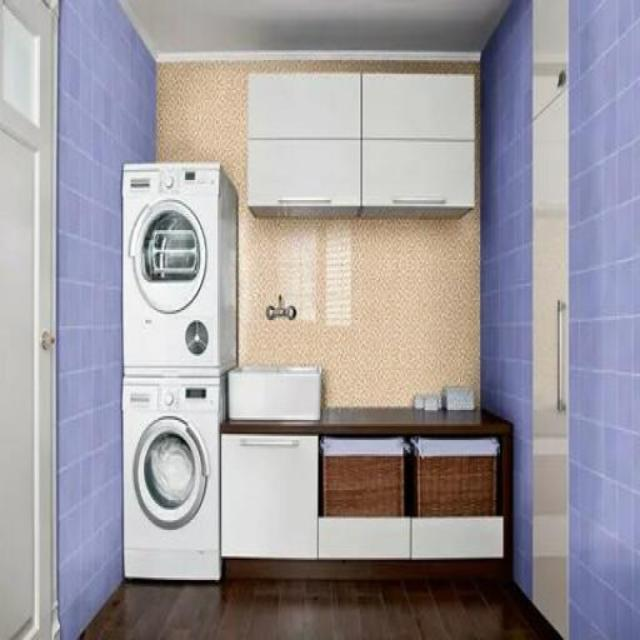Washing-Machine: (125, 160, 235, 372), (122, 376, 222, 576)
